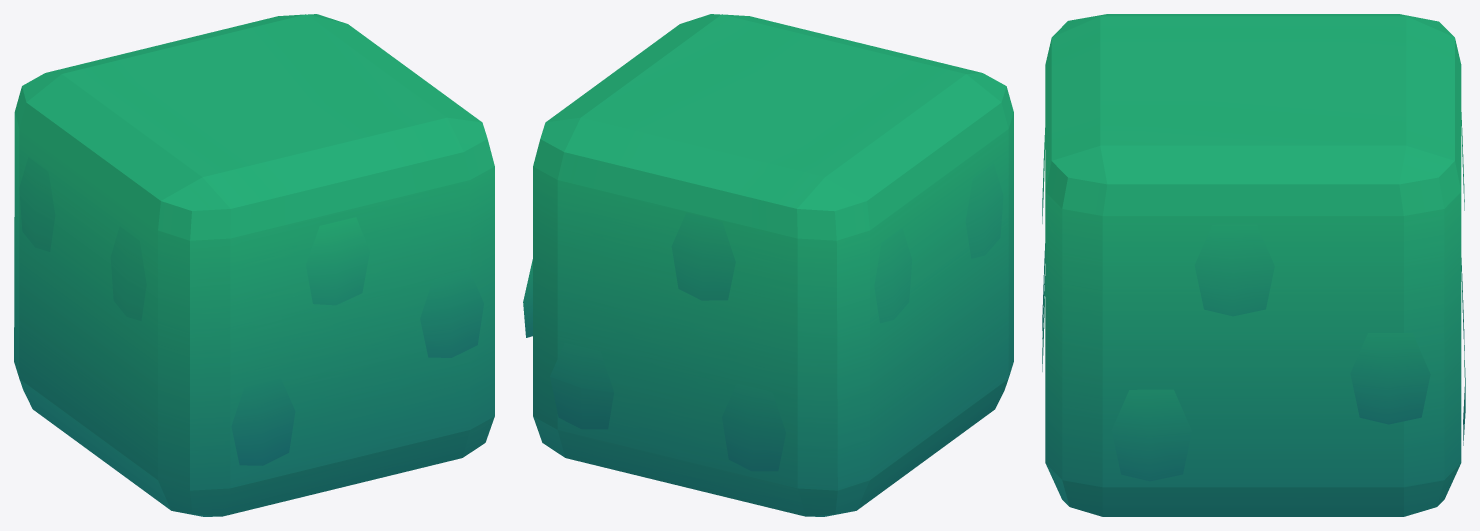
The model's file is CubyBush_Green.glb.
3 views of the same model, side by side, from view 1: azimuth 30°, elevation 25°; view 2: azimuth 150°, elevation 25°; view 3: azimuth 270°, elevation 25° (orthographic). The views are drawn at different scales.
Visible parts, largest first — view 1: CubyBush_Green; view 2: CubyBush_Green; view 3: CubyBush_Green.
Part boxes in pixels (x1=…): CubyBush_Green: x1=14, y1=14, x2=494, y2=516; CubyBush_Green: x1=523, y1=14, x2=1013, y2=516; CubyBush_Green: x1=1042, y1=14, x2=1465, y2=516.
Bounding box in the file's own units: 1.26 × 1.21 × 1.25.
Materials: 1 (1 with a texture image).
